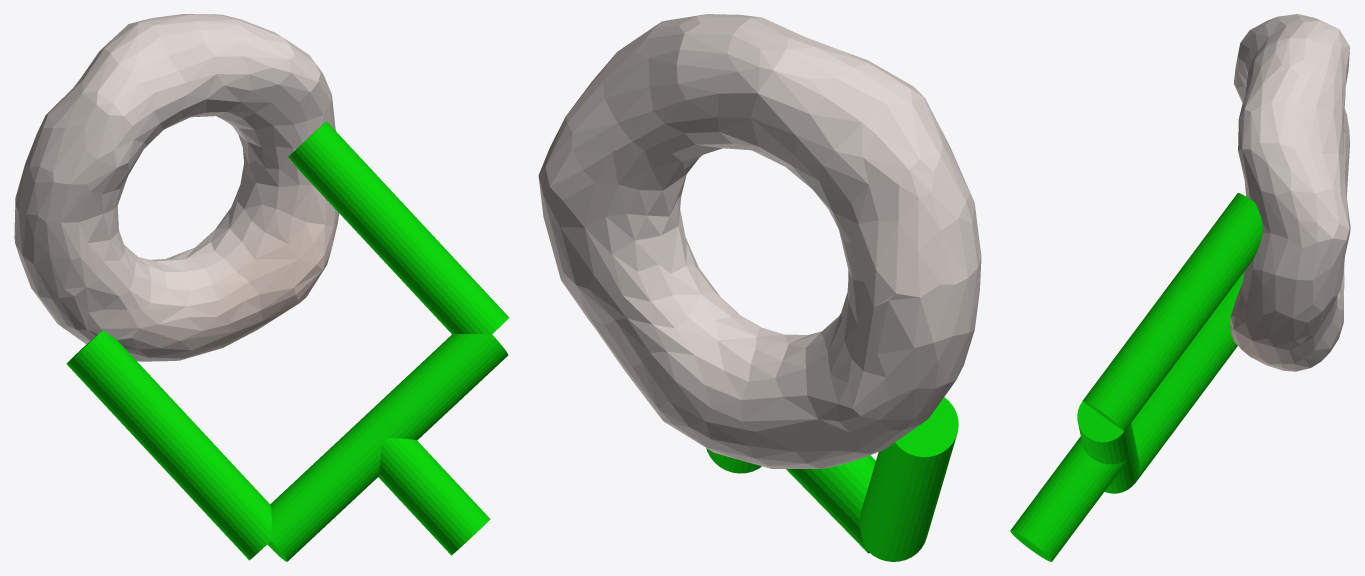
The model's file is round_001_trial_000.obj.
The picture shows the model from 3 angles, left to right: view 1: azimuth 30°, elevation 25°; view 2: azimuth 150°, elevation 25°; view 3: azimuth 270°, elevation 25°; orthographic projection. The views are drawn at different scales.
Visible parts, largest first — view 1: geometry_0, geometry_1; view 2: geometry_0, geometry_1; view 3: geometry_0, geometry_1.
Boxes of the visible parts, bbox=[...] form: geometry_0: bbox=[14, 14, 338, 361]; geometry_1: bbox=[66, 121, 509, 561]; geometry_0: bbox=[538, 14, 981, 468]; geometry_1: bbox=[706, 397, 958, 561]; geometry_0: bbox=[1230, 14, 1350, 371]; geometry_1: bbox=[1010, 193, 1262, 561].
Size of the model in its own units: 0.0838 by 0.0968 by 0.0652.
